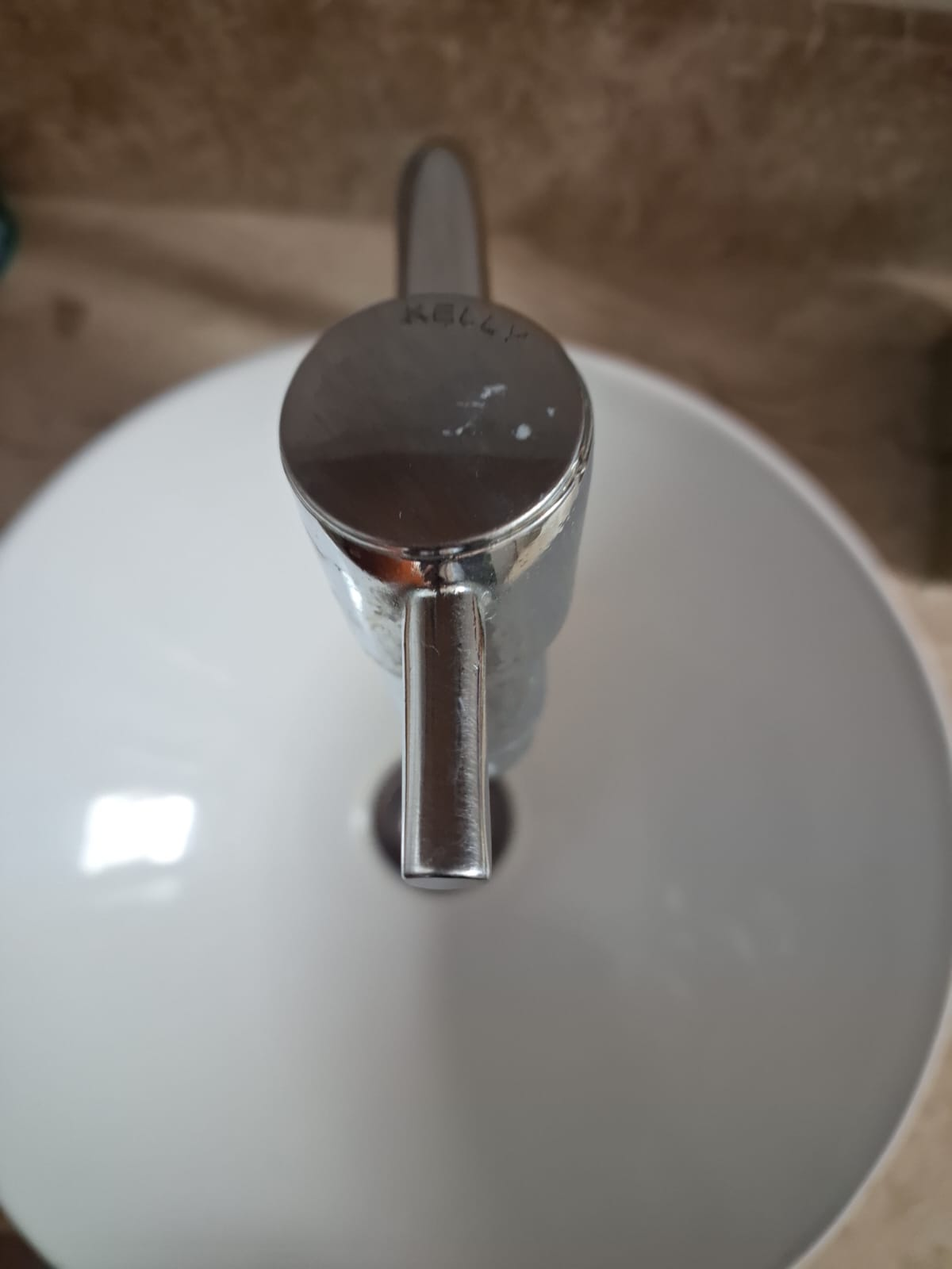torneira_fechada: (186, 102, 694, 1022)
